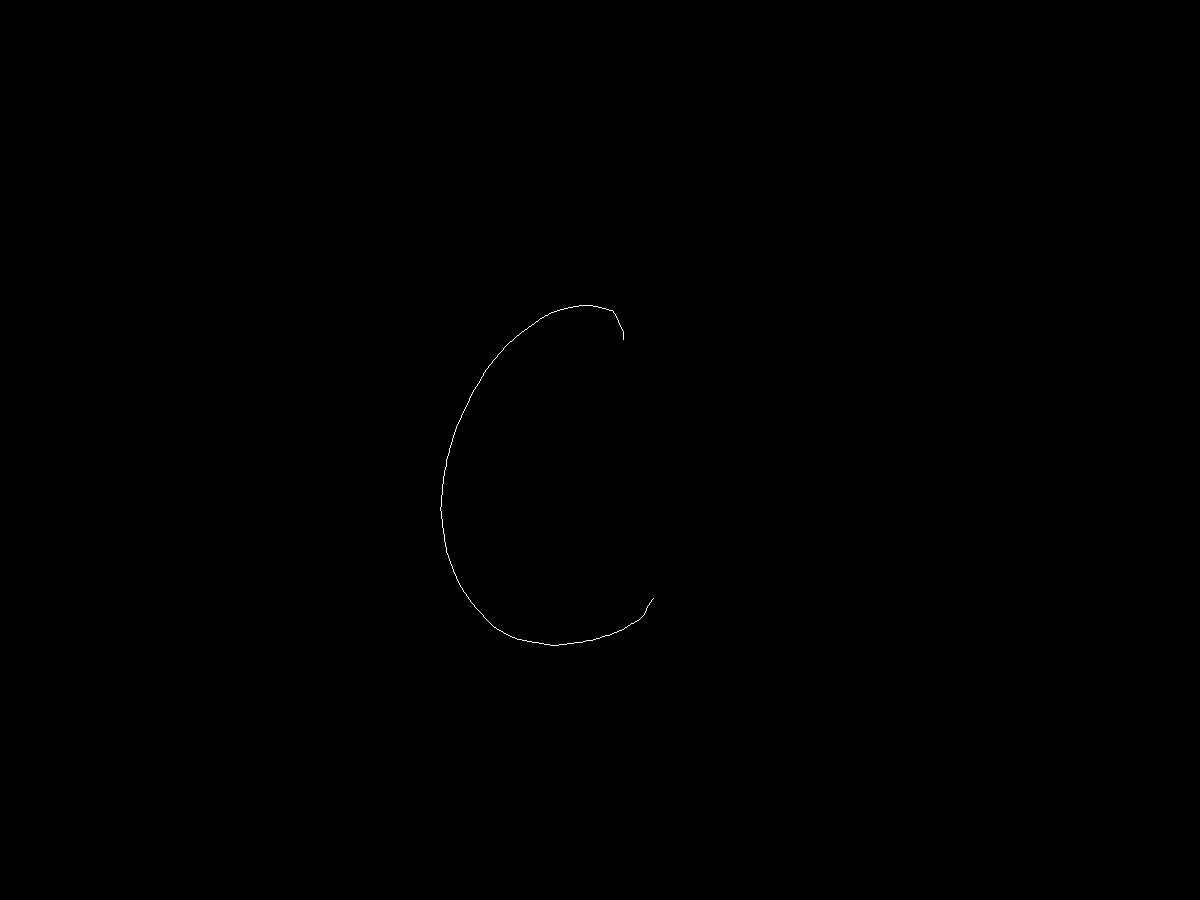dian1: (614, 333, 642, 348)
dian2: (631, 589, 662, 613)
